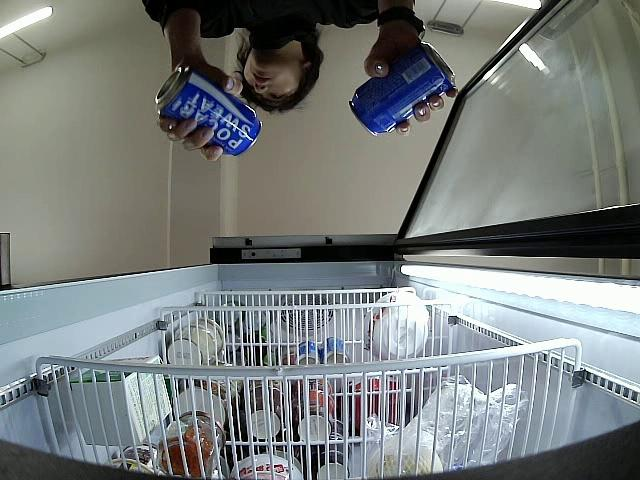00_hand: (363, 35, 458, 136), (156, 59, 243, 162)
13_pocariSweat: (347, 42, 455, 135), (157, 67, 261, 155)
